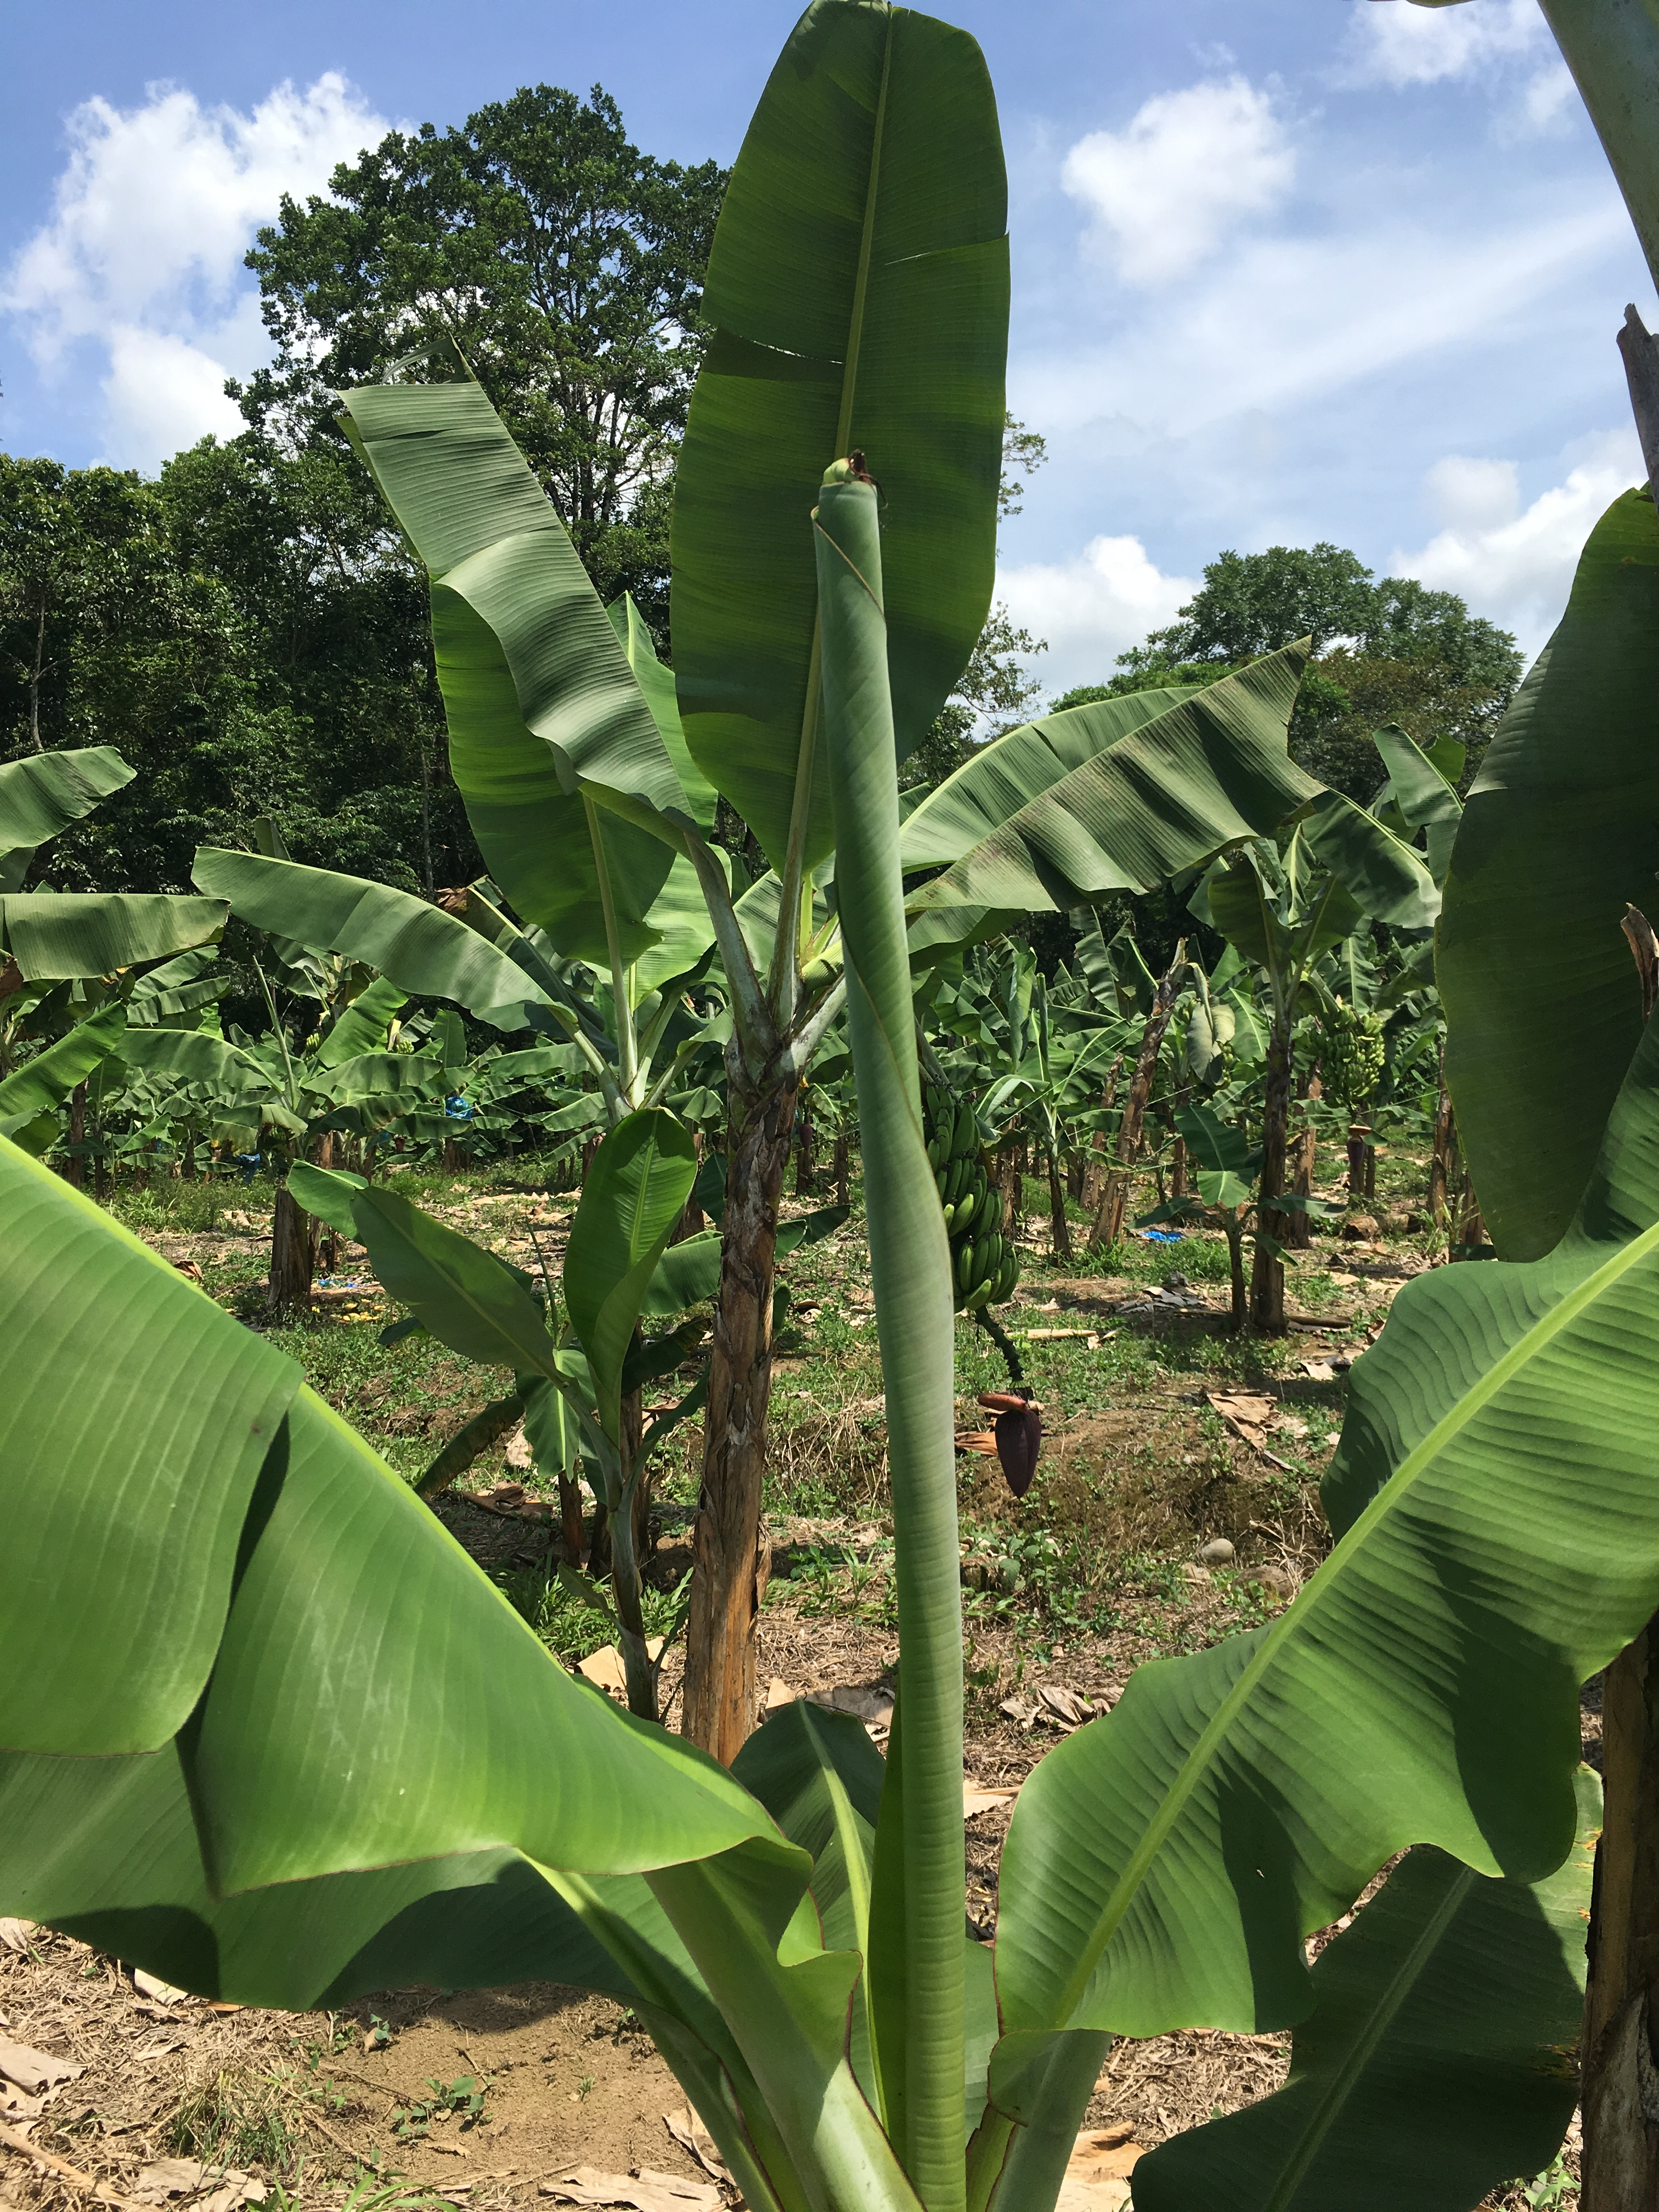candleleafs: (809, 455, 993, 2071)
